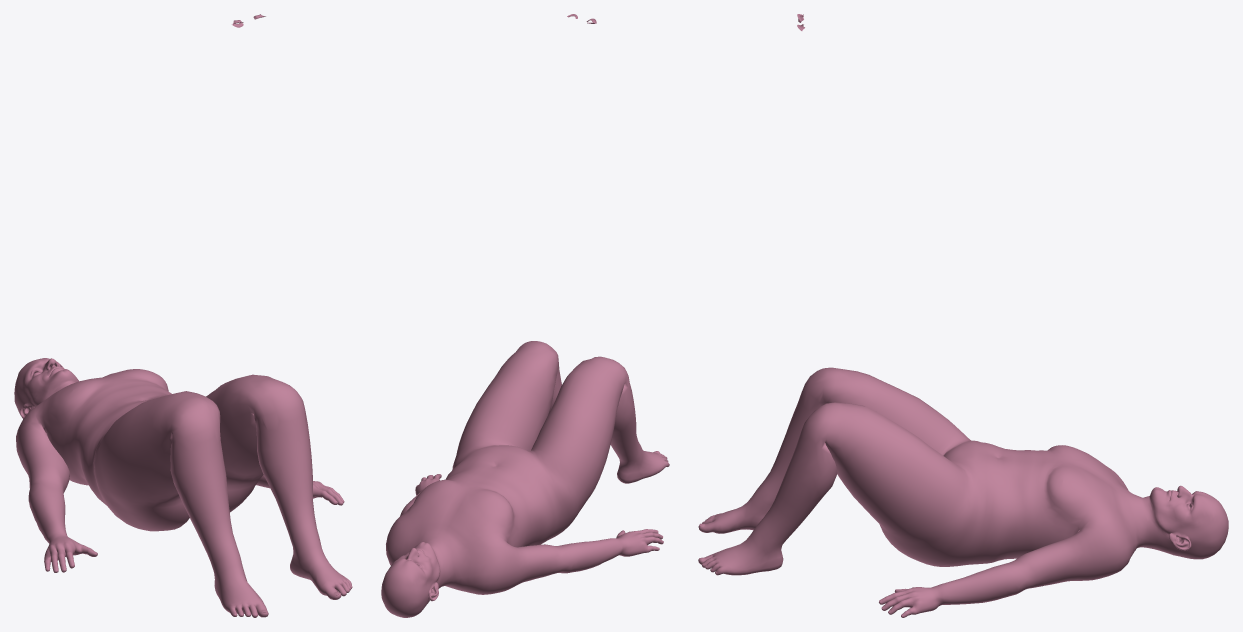
Rendered from pos6.glb.
3 views of the same model, side by side, from view 1: azimuth 30°, elevation 25°; view 2: azimuth 150°, elevation 25°; view 3: azimuth 270°, elevation 25° (orthographic). The views are drawn at different scales.
Parts seen in each view (by area): view 1: f_mana; view 2: f_mana; view 3: f_mana.
Boxes of the visible parts, bbox=[...] form: f_mana: bbox=[14, 14, 352, 617]; f_mana: bbox=[381, 14, 669, 617]; f_mana: bbox=[698, 14, 1228, 617].
Size of the model in its own units: 93.12 by 172 by 154.
